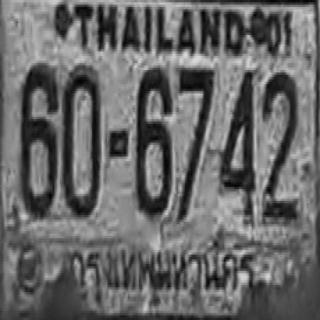N00: (61, 64, 100, 216)
N02: (262, 71, 298, 221)
N04: (218, 69, 255, 221)
N06: (19, 63, 58, 217), (135, 68, 172, 217)
N07: (177, 67, 214, 221)
P04: (69, 237, 260, 305)
